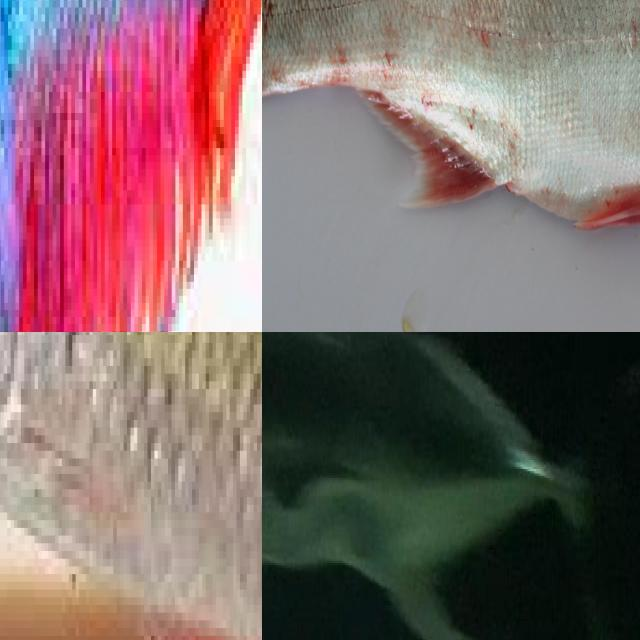fish: (262, 0, 640, 250), (0, 0, 262, 332), (0, 332, 262, 640)
